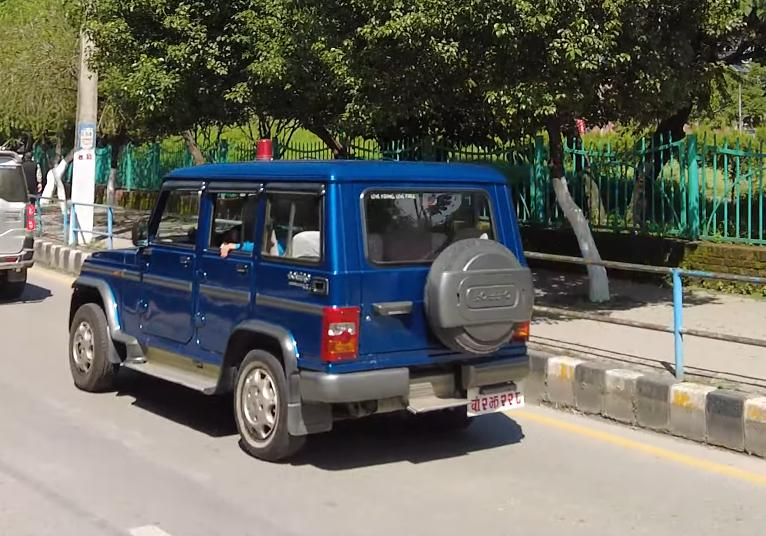SUV: (56, 155, 565, 460), (0, 141, 37, 298)
